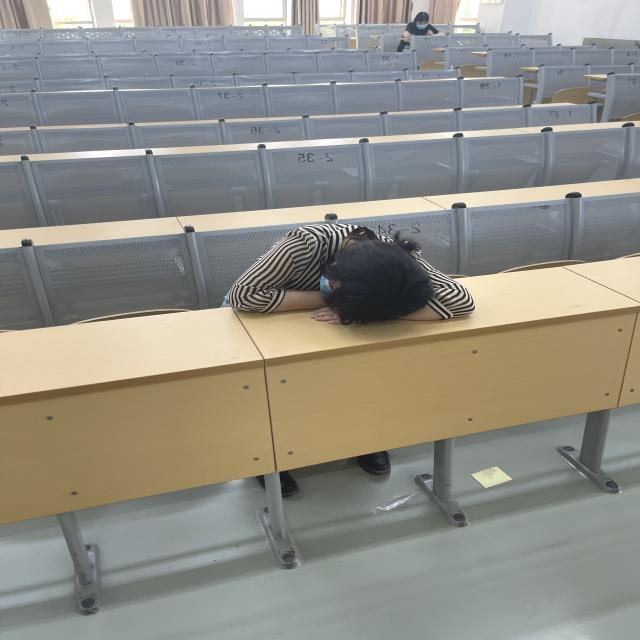sleep: (229, 224, 477, 322)
